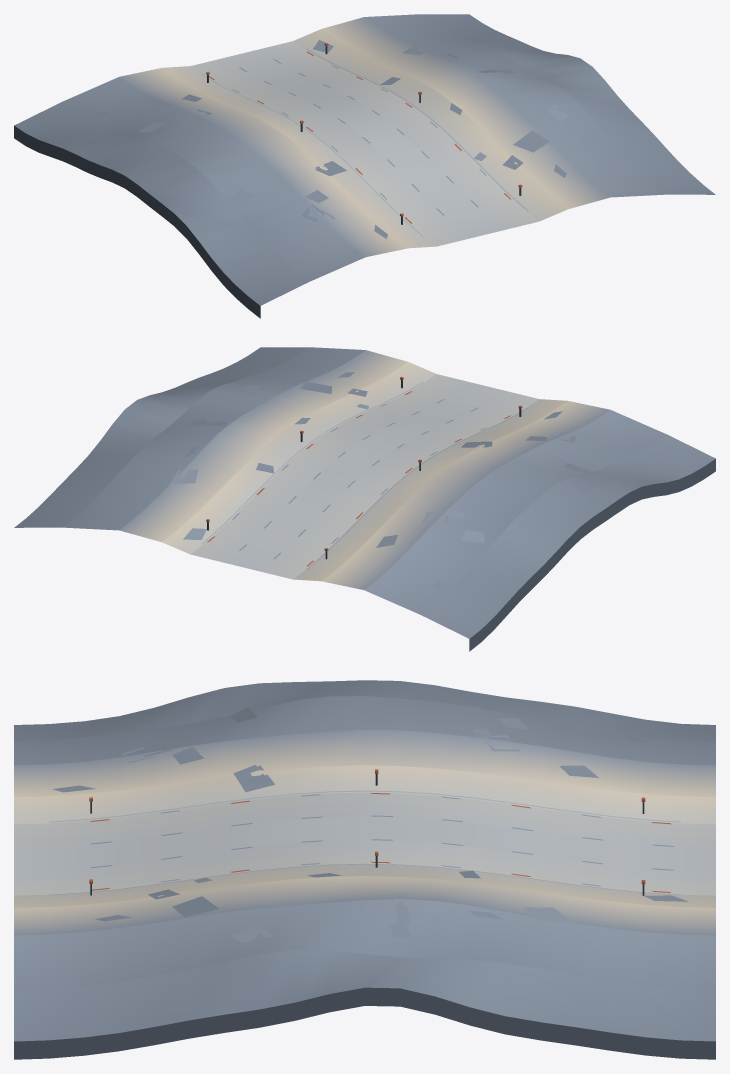
Rendered from 03-slope.glb.
The picture shows the model from 3 angles, top to bottom: view 1: azimuth 30°, elevation 25°; view 2: azimuth 150°, elevation 25°; view 3: azimuth 270°, elevation 25°; orthographic projection. The views are drawn at different scales.
Visible parts, largest first — view 1: slope; view 2: slope; view 3: slope.
Part boxes in pixels (x1=…): slope: x1=14, y1=14, x2=715, y2=318; slope: x1=14, y1=347, x2=715, y2=651; slope: x1=14, y1=680, x2=715, y2=1059.
Bounding box in the file's own units: 32 × 4.25 × 30.
